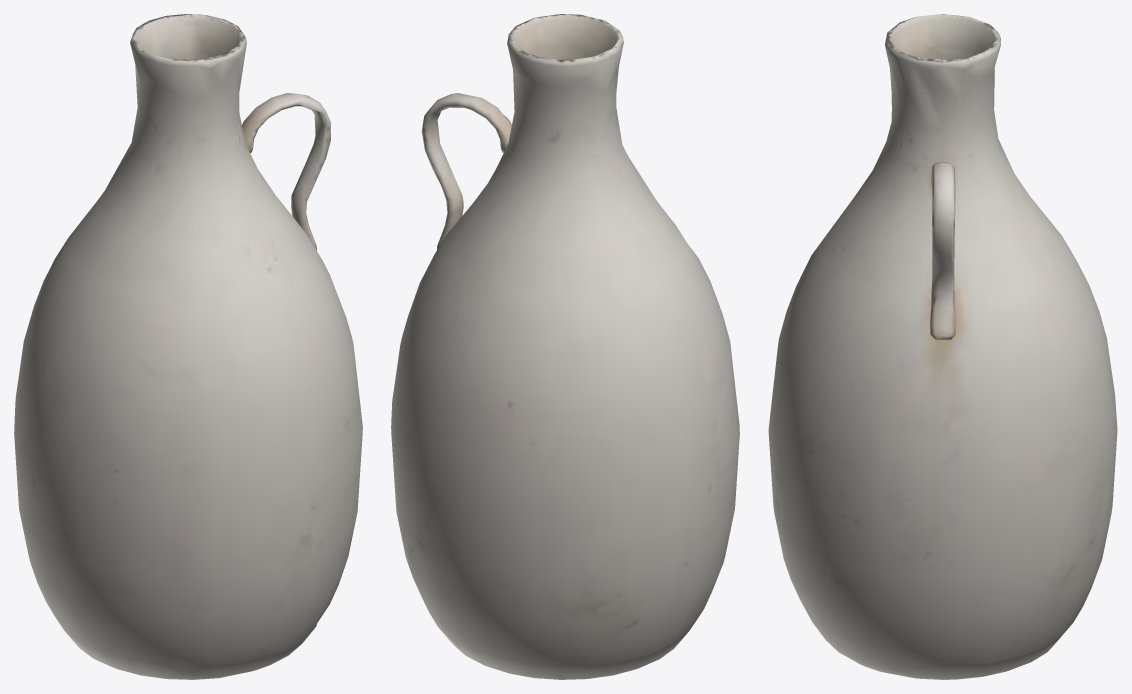
File: vase-04-4dab40f9.glb
3 renders of one model, left to right at view 1: azimuth 30°, elevation 25°; view 2: azimuth 150°, elevation 25°; view 3: azimuth 270°, elevation 25°, orthographic.
Parts seen in each view (by area): view 1: ceramic_vase_04; view 2: ceramic_vase_04; view 3: ceramic_vase_04.
Part boxes in pixels (x1=…): ceramic_vase_04: x1=14, y1=14, x2=362, y2=679; ceramic_vase_04: x1=391, y1=14, x2=739, y2=679; ceramic_vase_04: x1=768, y1=14, x2=1117, y2=679.
Bounding box in the file's own units: 0.1811 × 0.3419 × 0.1811.
1 material, 1 textured.
